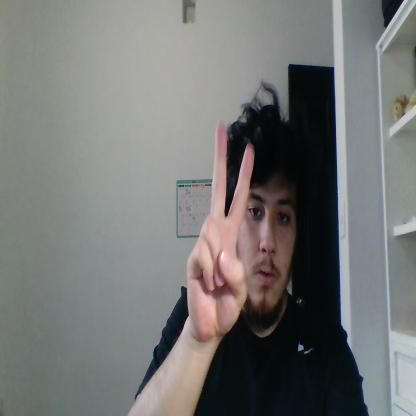V: (186, 122, 254, 338)
